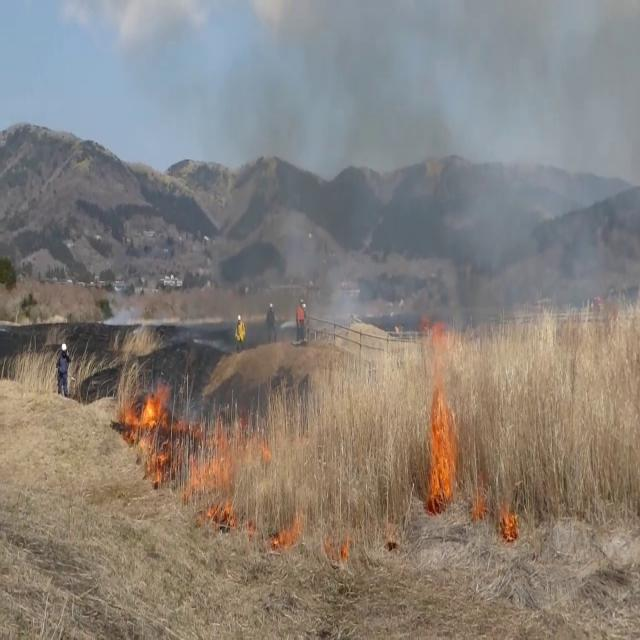Fire: (424, 360, 462, 508), (130, 373, 172, 439)
Smoke: (212, 1, 640, 354)
